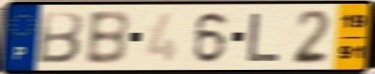2: (293, 8, 335, 66)
4: (143, 9, 182, 66)
6: (192, 10, 231, 65)
B: (34, 10, 86, 66), (83, 9, 131, 67)
L: (244, 11, 283, 63)
